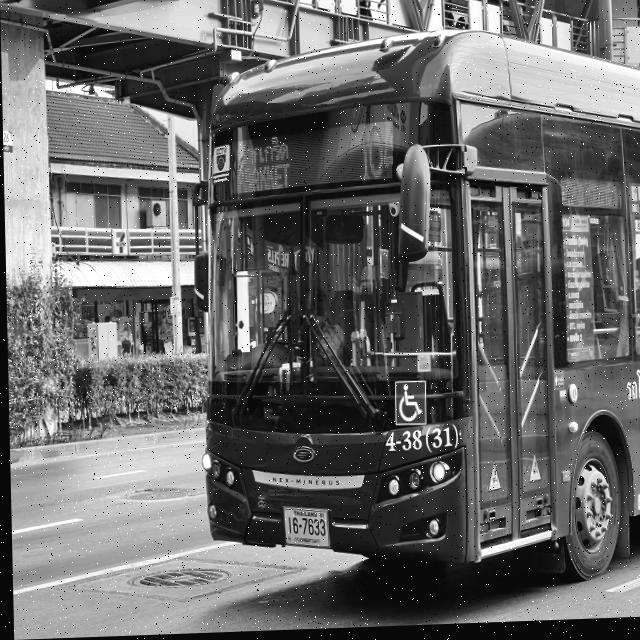Bus Line Number: (348, 115, 402, 189)
Bus Side Number: (381, 427, 460, 458)
Destination Sign: (229, 129, 297, 200)
TSB-Bus: (182, 15, 640, 609)
